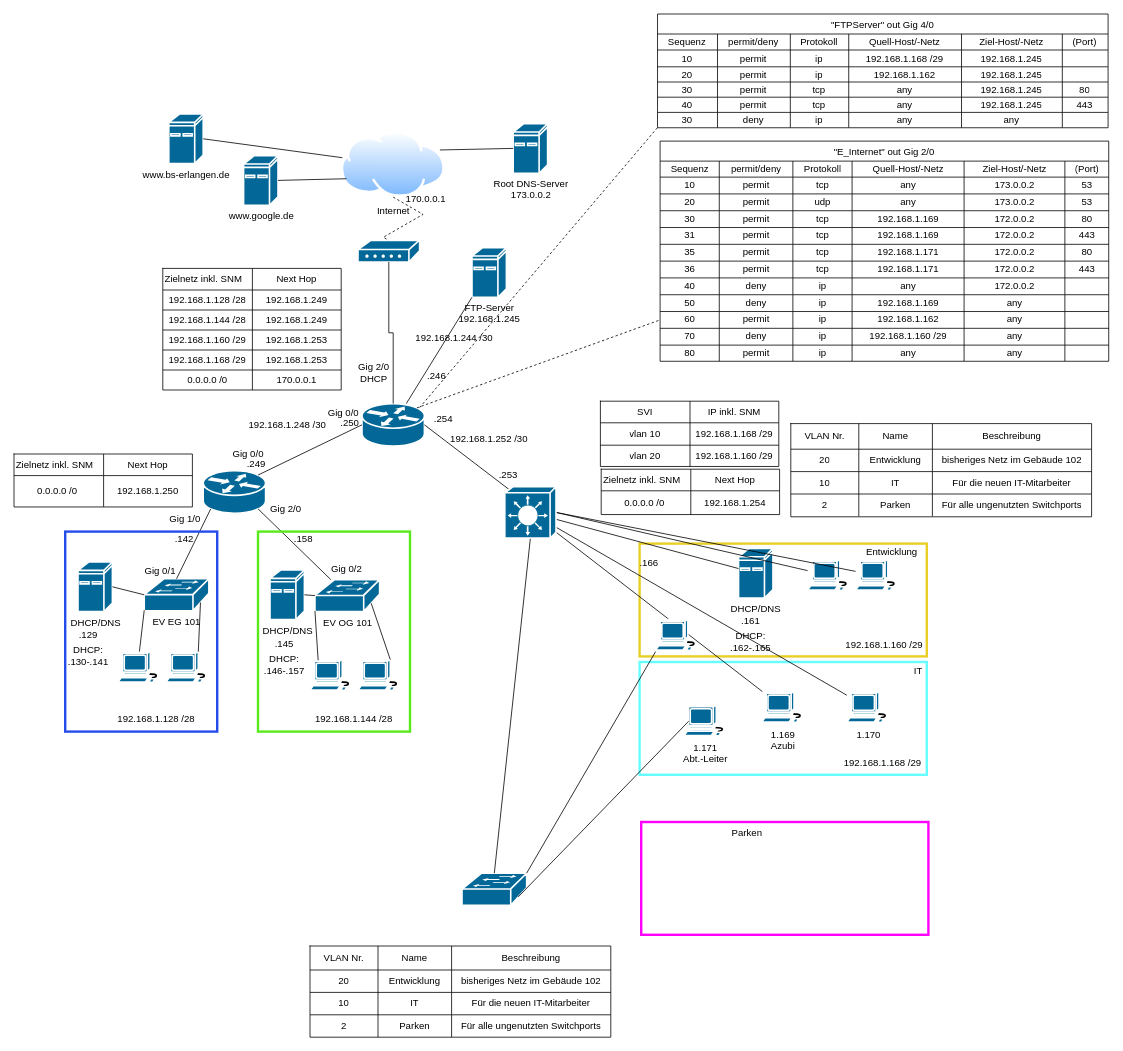
This 1123x1051 diagram has some shape labels left out. The centre of each missing label's shape, as x and y in pixels:
DSL Modem0: point 388,250
EV DG 102: point 494,889
GV 101: point 234,492
GV/EV 102 OG: point 530,512
SV Erlangen: point 393,424
